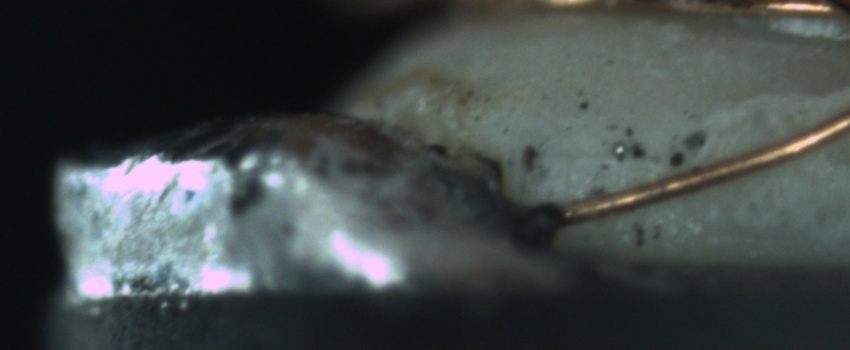DL: (547, 134, 668, 181)
